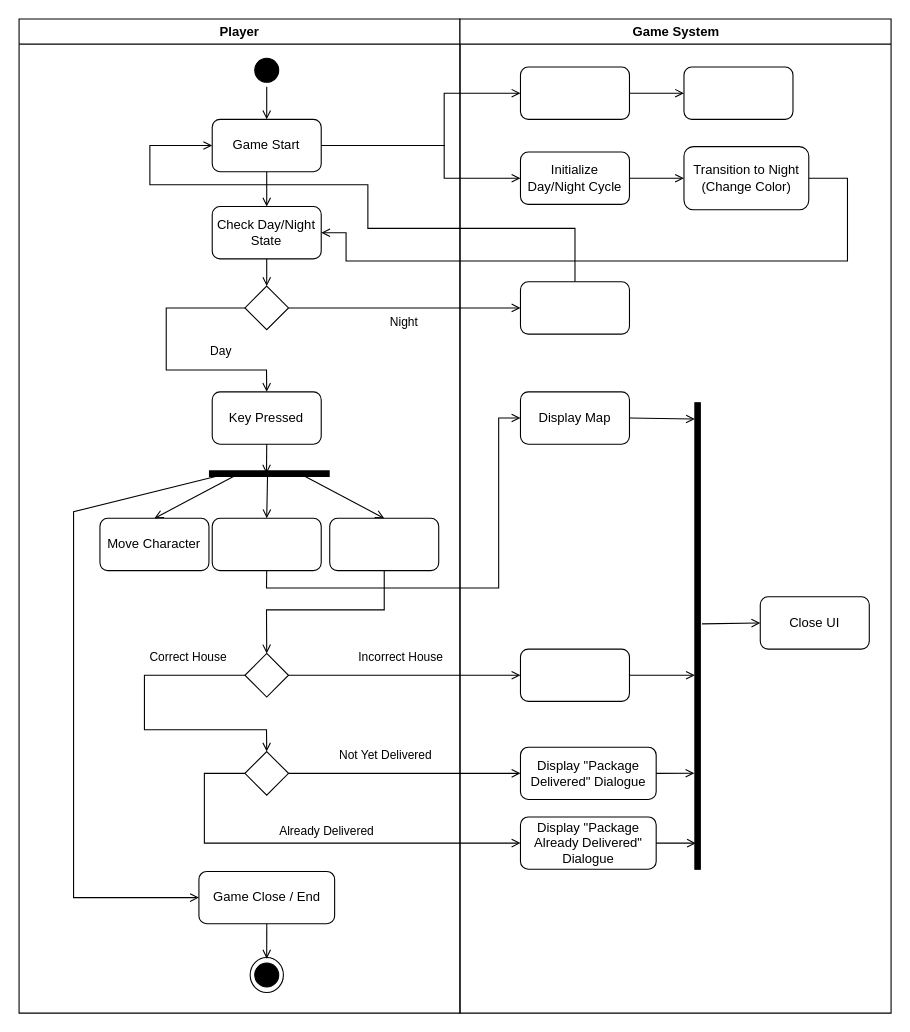
The diagram is 910 pixels wide and 1032 high, and some of its shapes have lost their labels. The shapes that lost their labels are listed below. From the top down, each one's centre as x and y in pixels, then its label:
point 574,92: Generate Packages
point 738,92: Assign Packages to Houses
point 574,307: Fade to Black Transition
point 266,544: Open Map
point 384,544: Deliver Package
point 574,674: Display "Wrong House" Dialogue
